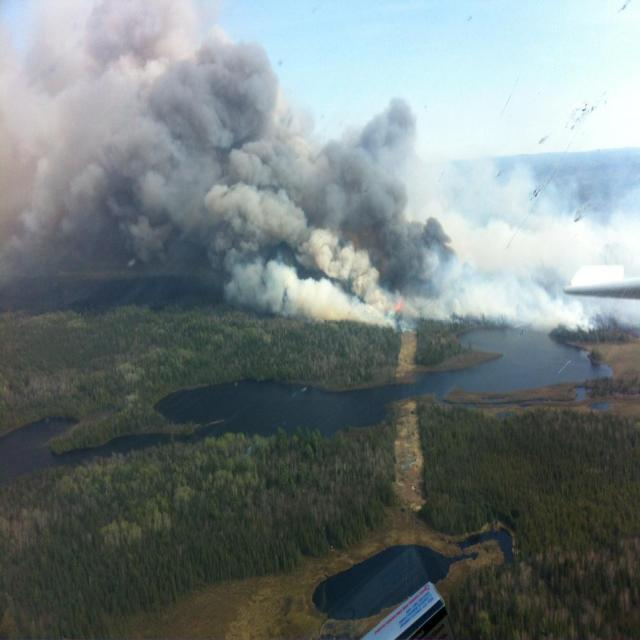Smoke: (6, 9, 633, 316), (210, 166, 406, 327), (44, 19, 154, 243)
